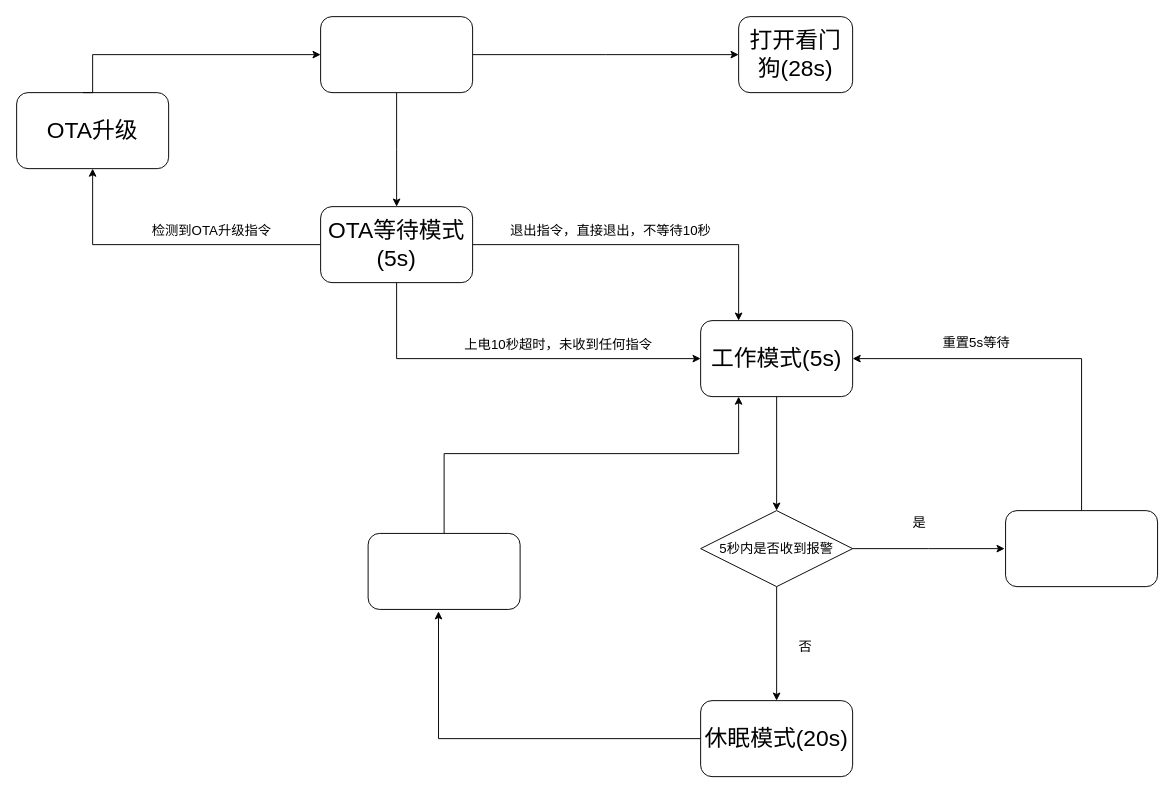
This 1174x793 diagram has some shape labels left out. Each missing label, with the box of its shape:
TIM6定时器超时（25s）: (367, 532, 520, 609)
上电启动: (320, 16, 473, 93)
蜂鸣片报警: (1005, 510, 1158, 587)
